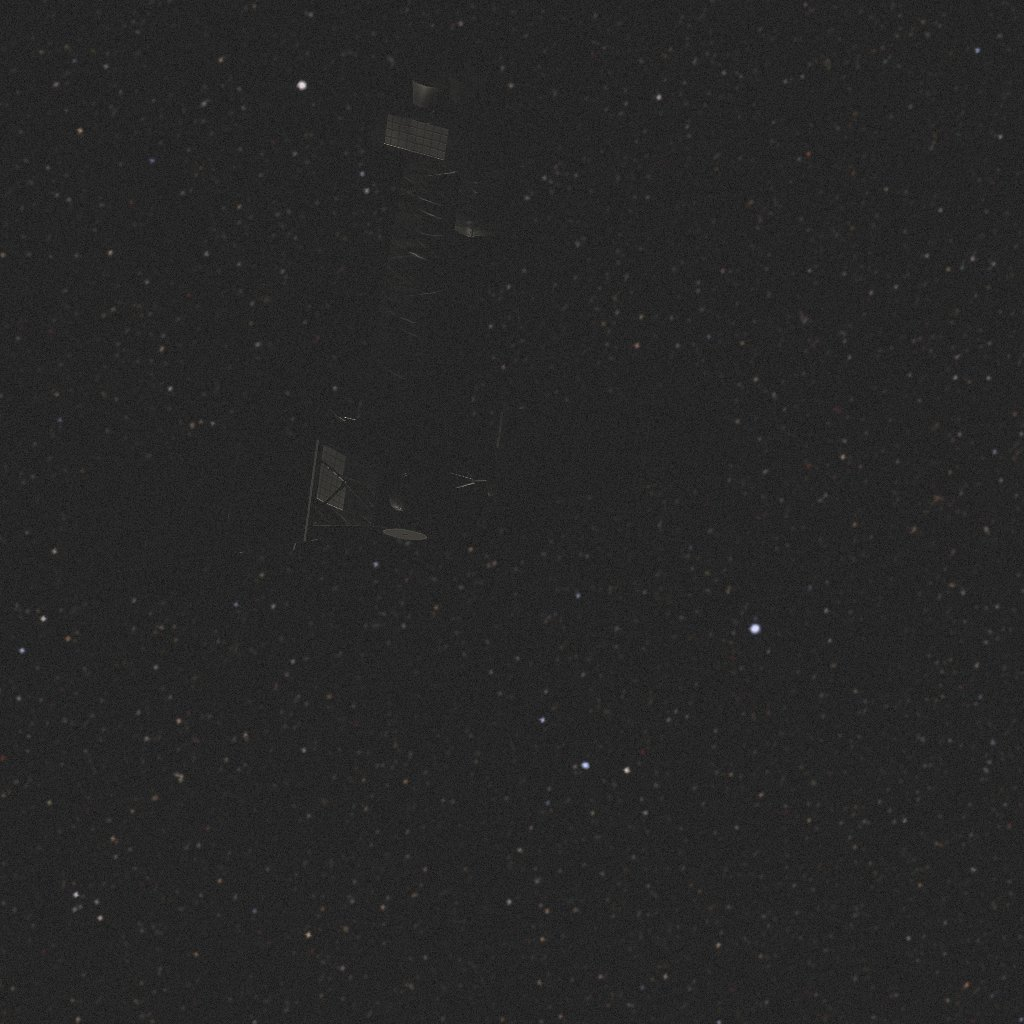xmm_newton: (60, 33, 724, 581)
